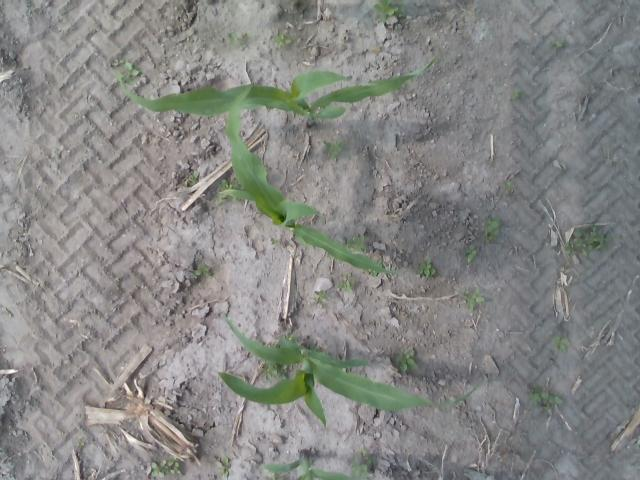Maize: (220, 80, 403, 276), (218, 314, 476, 430), (118, 58, 438, 126), (261, 450, 366, 480)
Weeds: (562, 226, 612, 257), (530, 384, 564, 412), (216, 178, 247, 205), (372, 0, 406, 24), (349, 446, 372, 478), (262, 357, 288, 381), (460, 284, 484, 310), (396, 348, 420, 372), (482, 215, 500, 245), (150, 458, 180, 476), (118, 61, 140, 85), (227, 32, 253, 50), (416, 257, 438, 278), (552, 334, 572, 354), (344, 236, 368, 252), (337, 272, 356, 292), (326, 140, 344, 160), (273, 30, 293, 48), (192, 262, 213, 278), (216, 456, 230, 479), (313, 290, 331, 306), (182, 170, 199, 186), (368, 259, 383, 277), (461, 244, 476, 262), (282, 332, 298, 343), (265, 472, 284, 480), (511, 89, 522, 101), (502, 181, 516, 189), (550, 40, 564, 48), (112, 57, 124, 66), (266, 342, 280, 348), (270, 237, 278, 245), (76, 440, 85, 446)
